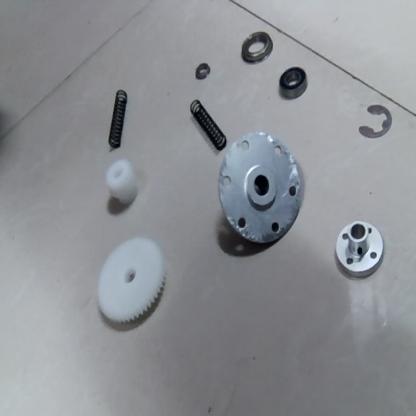FOD: (217, 132, 304, 247), (96, 234, 169, 330), (333, 220, 386, 280), (188, 98, 228, 152), (106, 160, 141, 213), (106, 86, 132, 151), (355, 100, 393, 144), (239, 29, 272, 65), (279, 66, 309, 104), (191, 62, 212, 82)
